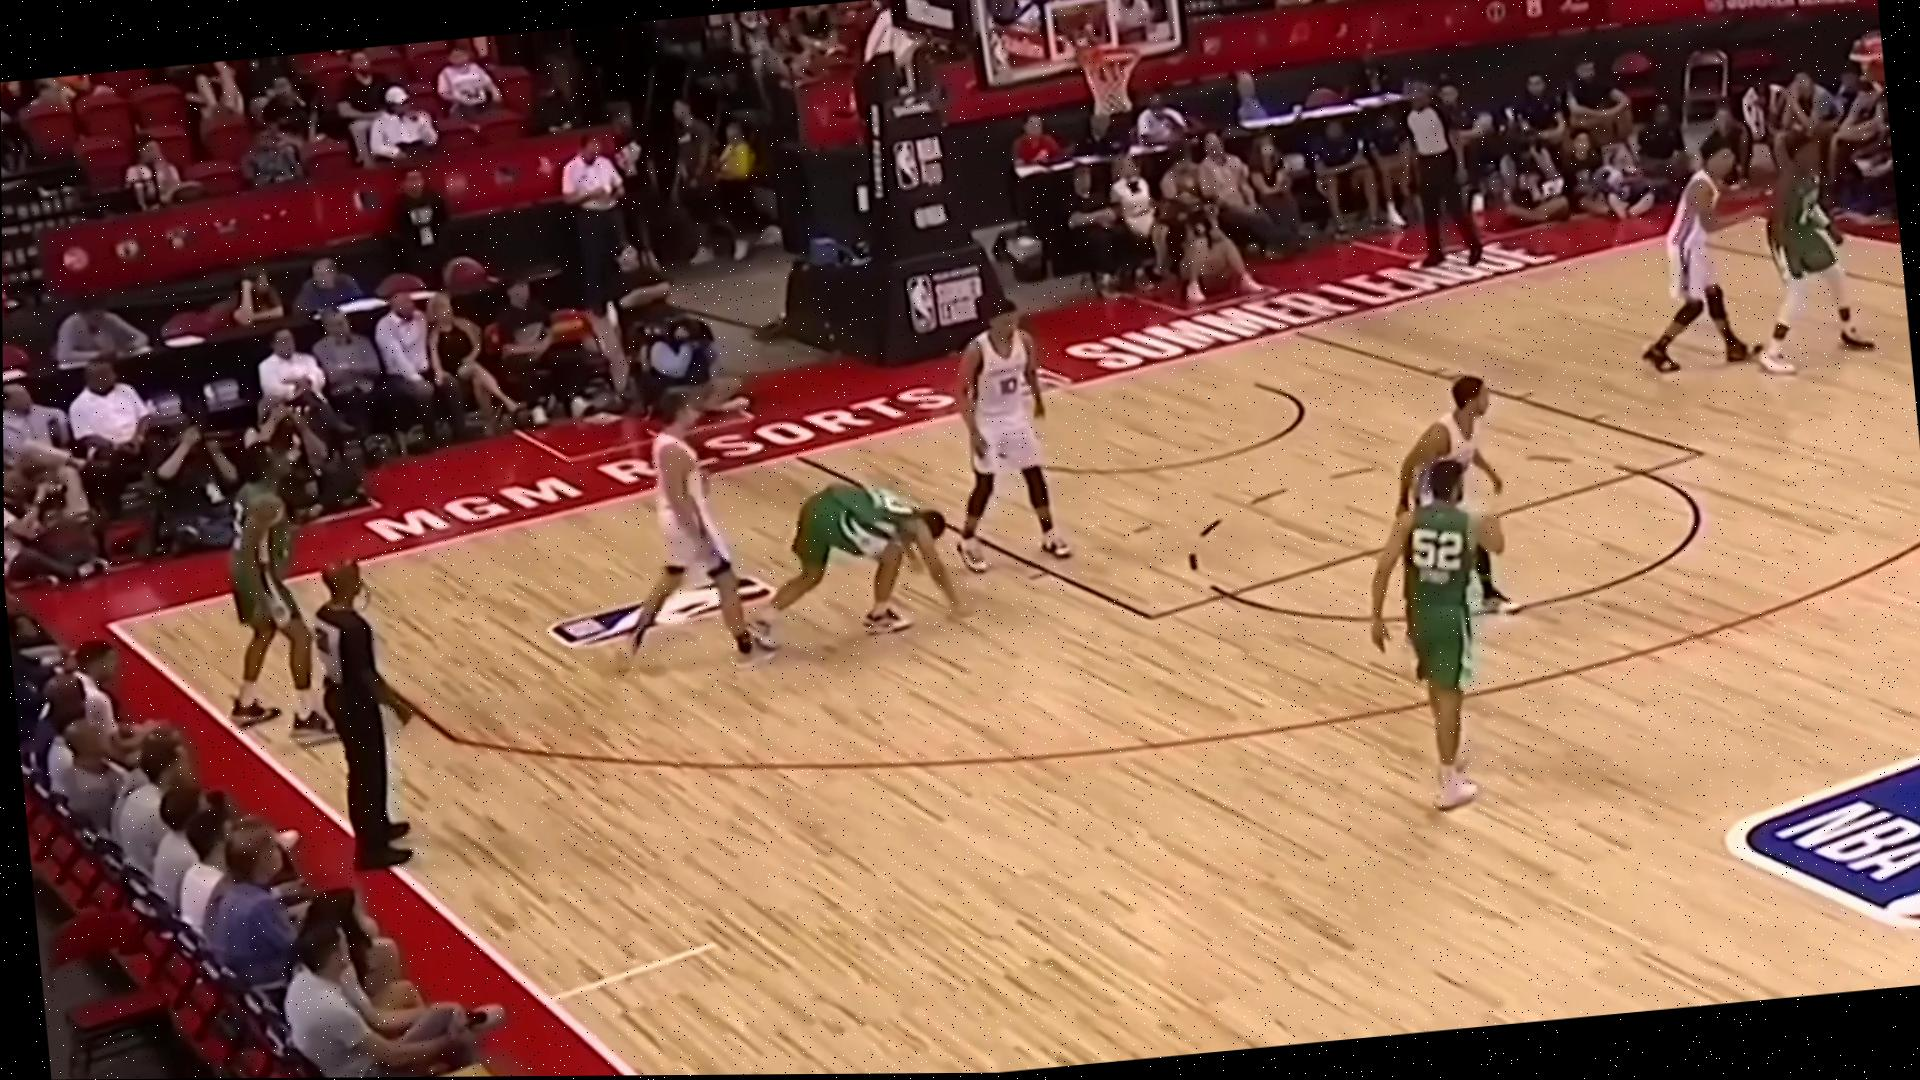no_foul: (592, 342, 969, 686)
